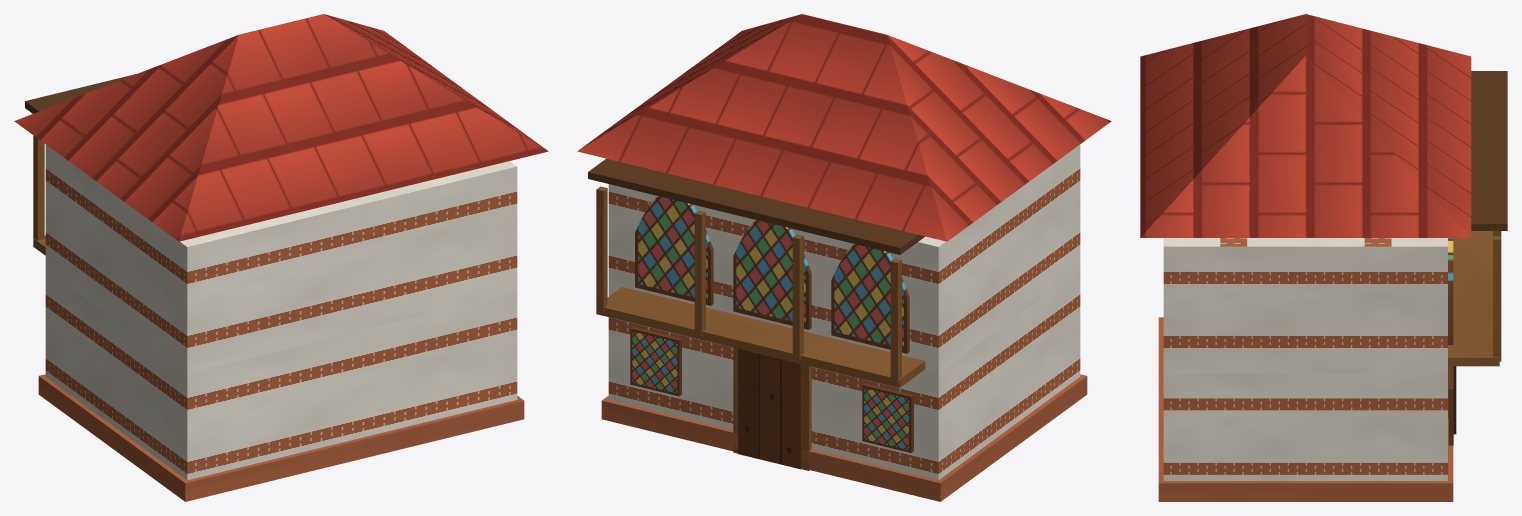
Rendered from env_sheki_house_b.glb.
3 views of the same model, side by side, from view 1: azimuth 30°, elevation 25°; view 2: azimuth 150°, elevation 25°; view 3: azimuth 270°, elevation 25° (orthographic).
Parts seen in each view (by area): view 1: env_sheki_house_b; view 2: env_sheki_house_b; view 3: env_sheki_house_b.
Part boxes in pixels (x1=…): env_sheki_house_b: x1=14, y1=14, x2=548, y2=501; env_sheki_house_b: x1=577, y1=14, x2=1111, y2=501; env_sheki_house_b: x1=1140, y1=14, x2=1507, y2=501.
Bounding box in the file's own units: 8.3 × 8.22 × 7.1.
Materials: 1 (1 with a texture image).
